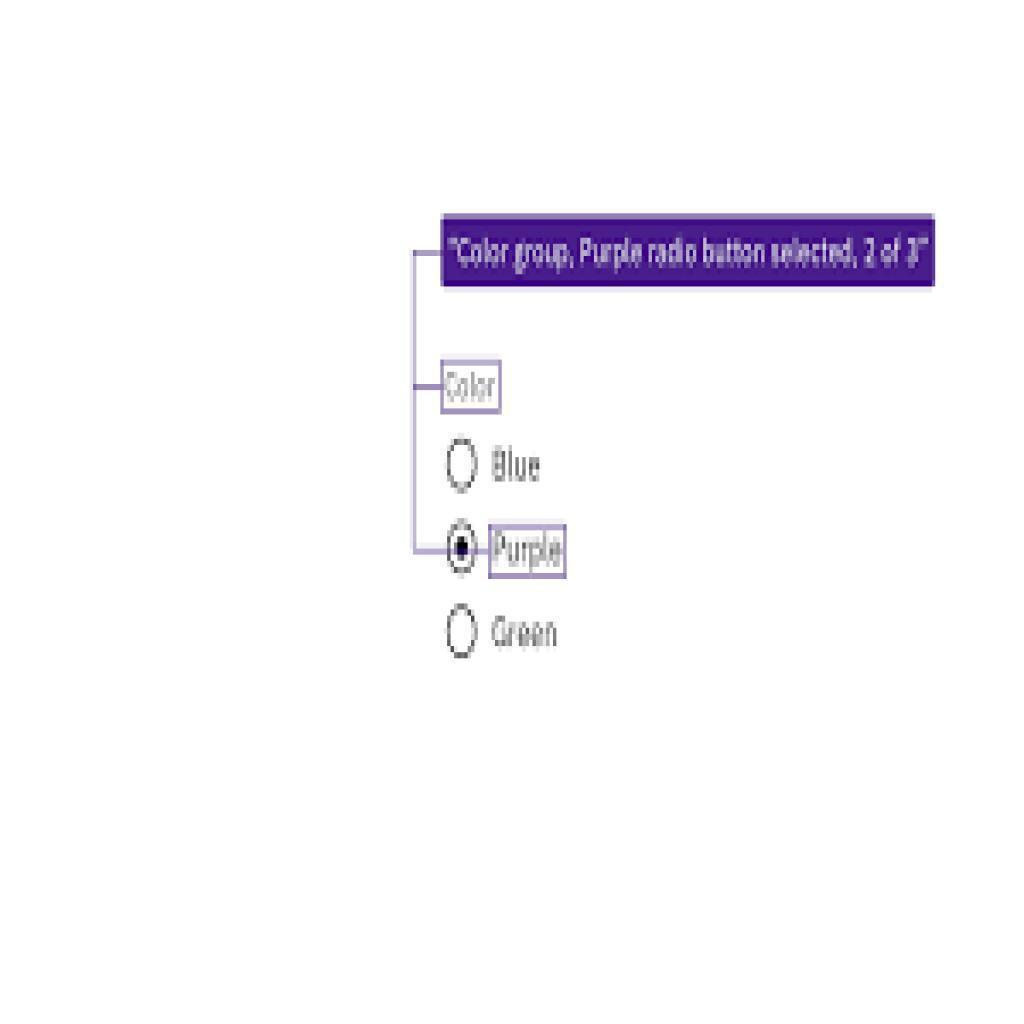label: (493, 528, 562, 575), (484, 439, 548, 487), (491, 613, 562, 650)
radio: (443, 600, 484, 671), (445, 508, 477, 579), (445, 435, 480, 492)
